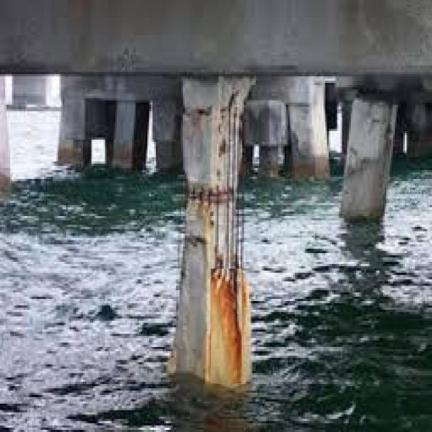karat: (205, 270, 250, 384)
